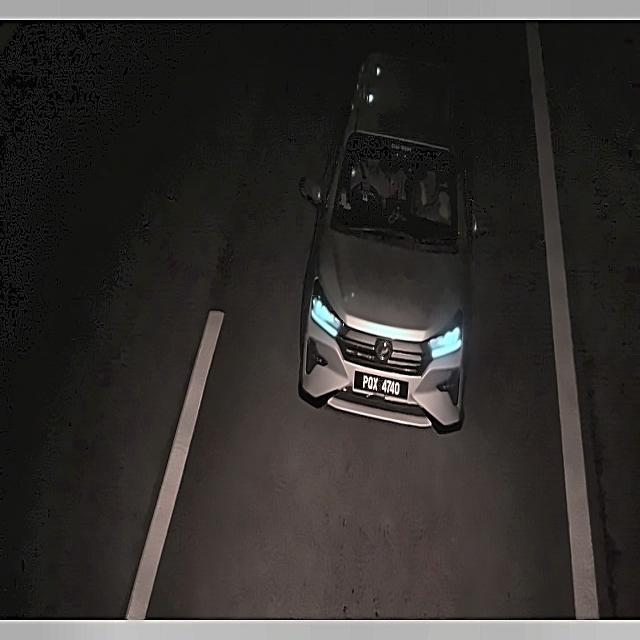car: (352, 359, 414, 405)
